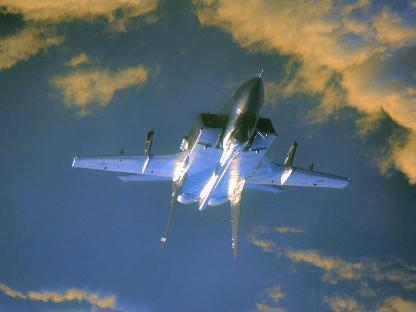Mig31: (70, 70, 352, 260)
